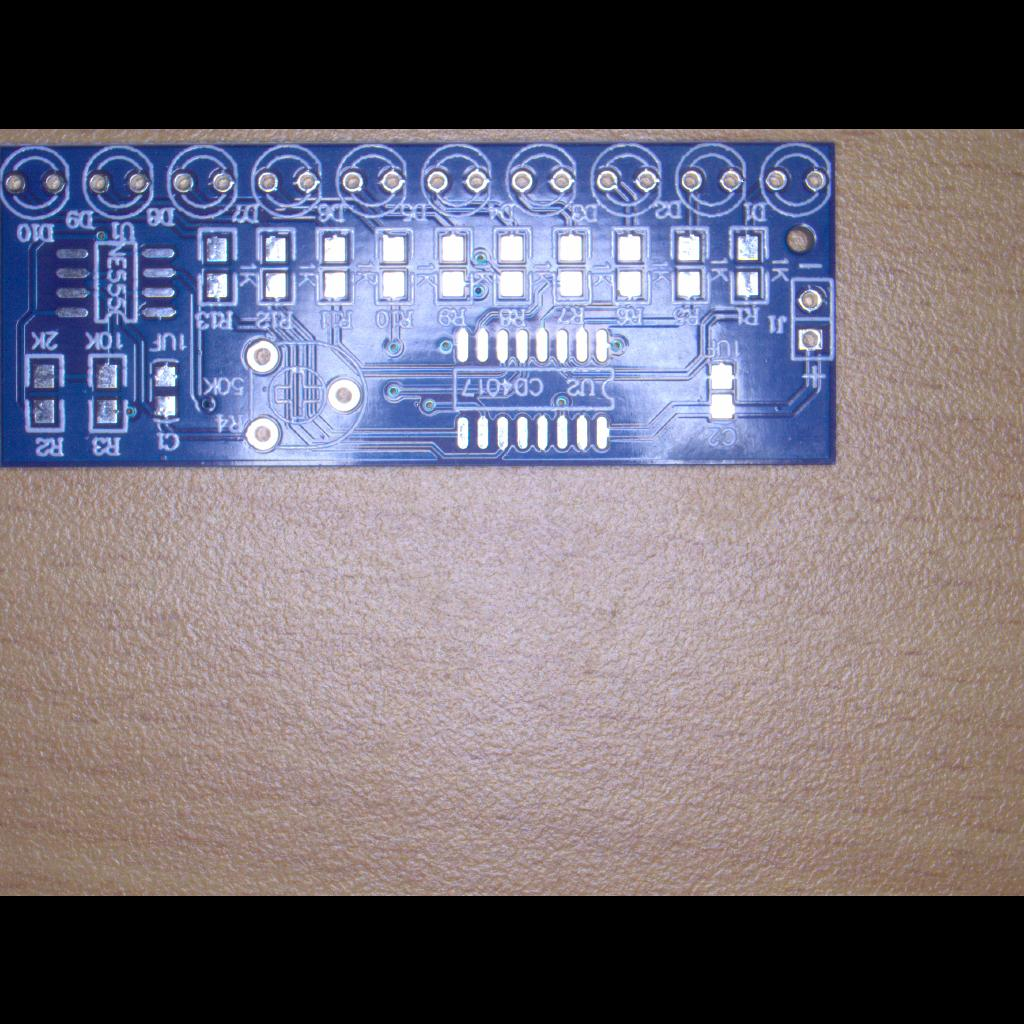NG: (444, 316, 620, 456), (46, 228, 186, 330), (369, 220, 419, 314), (84, 348, 134, 438), (250, 223, 302, 307), (308, 222, 358, 308), (428, 221, 478, 307), (21, 348, 69, 436), (194, 220, 242, 308), (606, 220, 654, 306), (726, 221, 774, 307), (667, 220, 713, 308), (489, 222, 537, 306), (549, 224, 595, 308), (144, 350, 184, 428), (702, 353, 742, 429)
